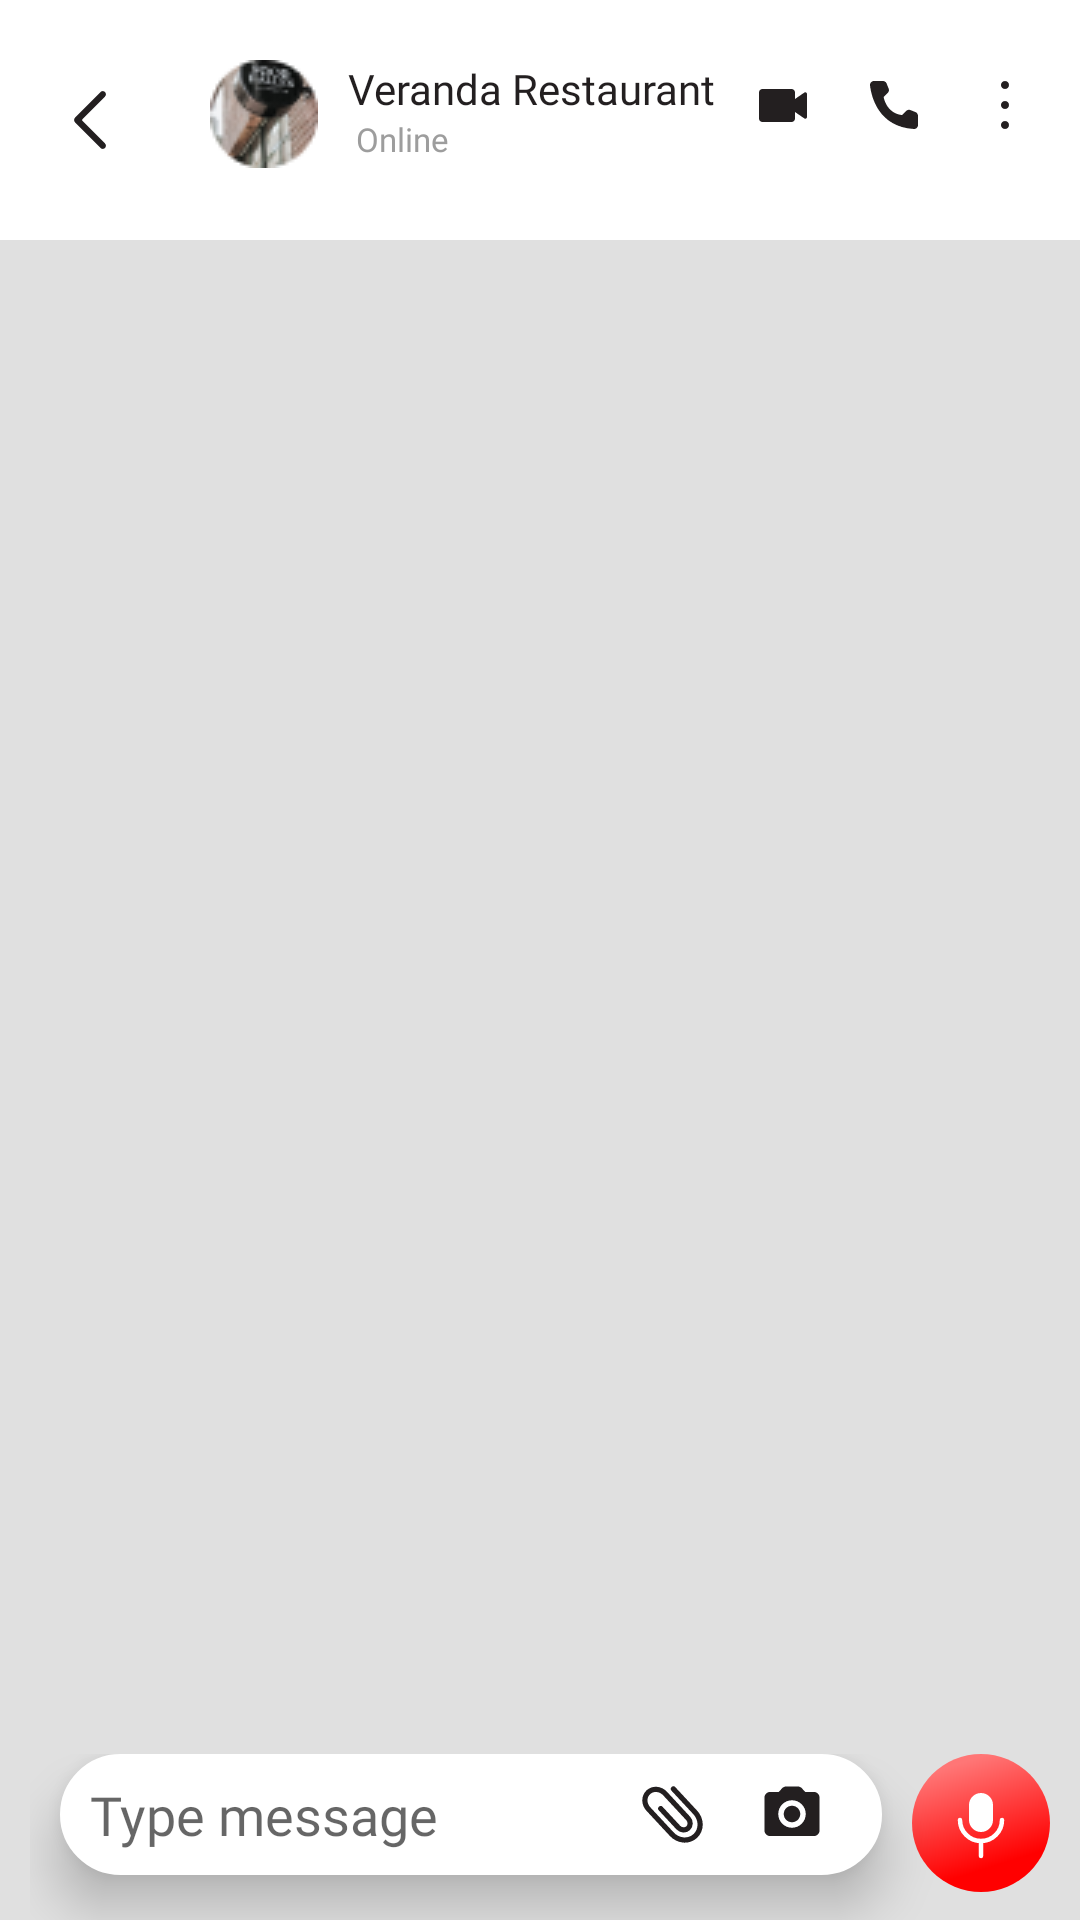

Icon click points for this 1080*1920 phone screenshot, format (x,y):
back: (90,120)
call: (894,105)
document: (672,1814)
microphone: (981,1823)
ncamera: (792,1811)
threedot: (1005,105)
vidio: (783,105)
